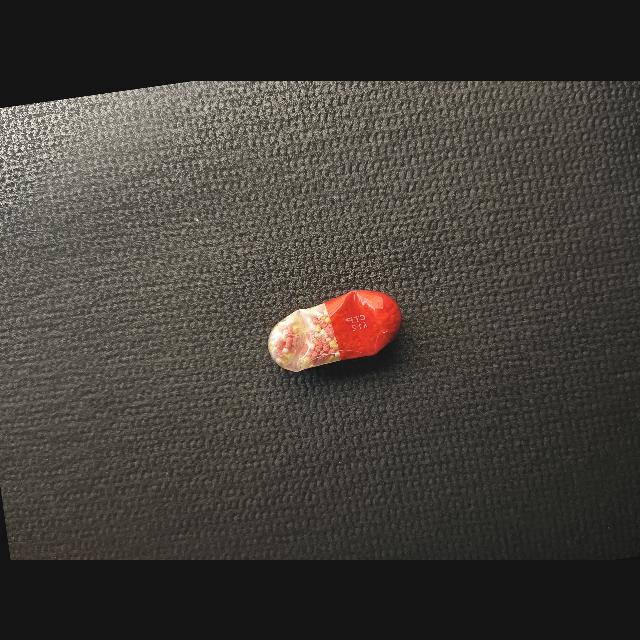Defective Capsule: (268, 289, 401, 371)
